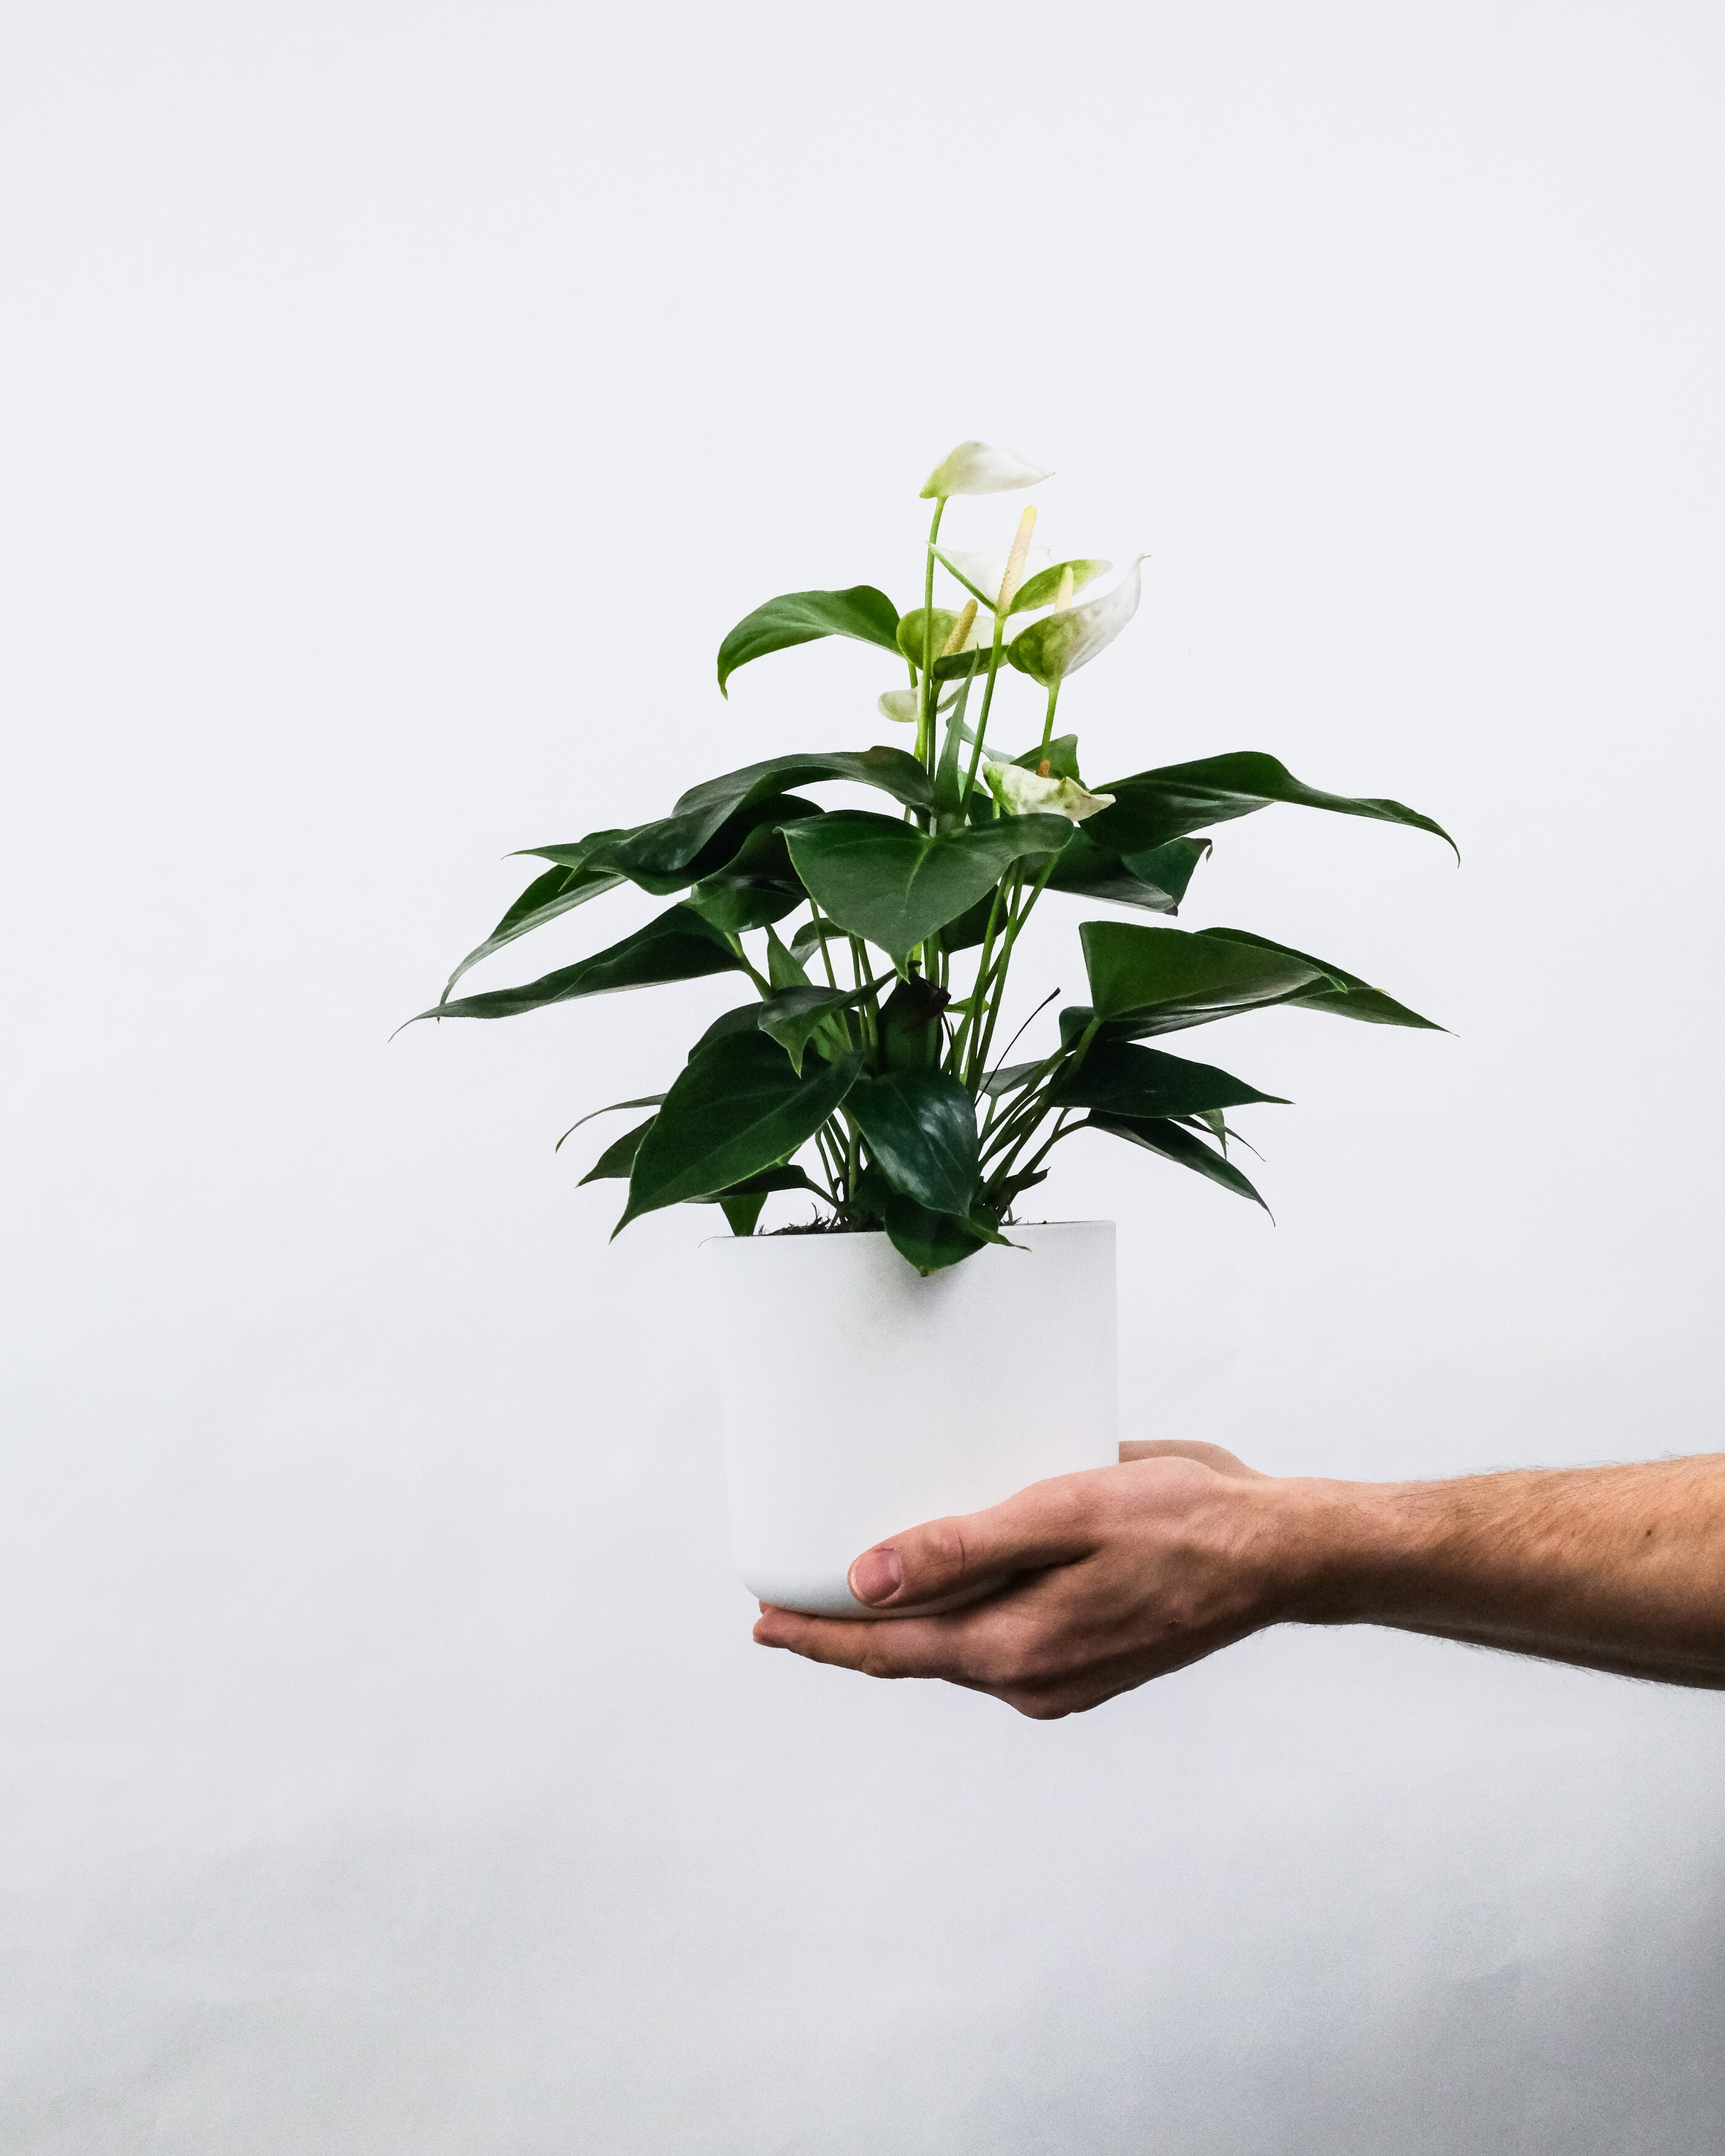Plant: (425, 522, 1466, 1302)
